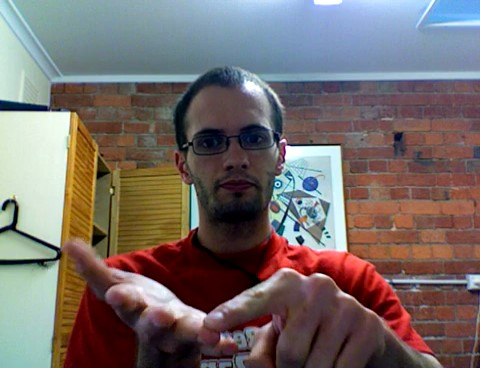O: (54, 223, 410, 368)
